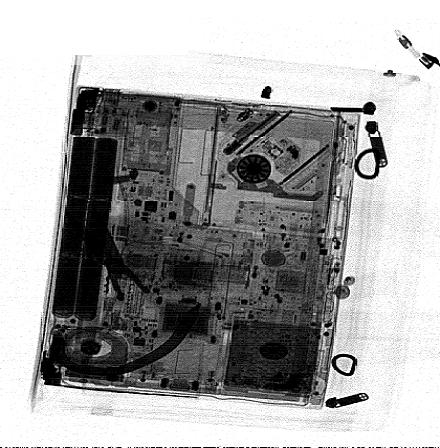Scissors: (64, 194, 155, 306)
